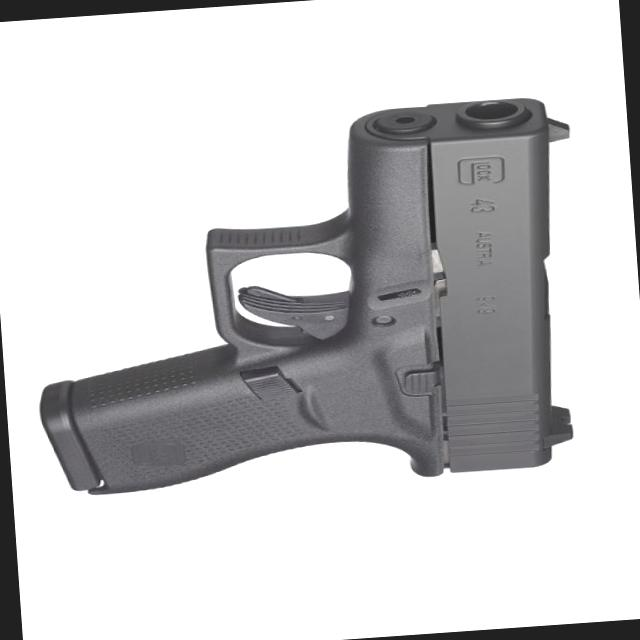handgun: (17, 90, 602, 502)
